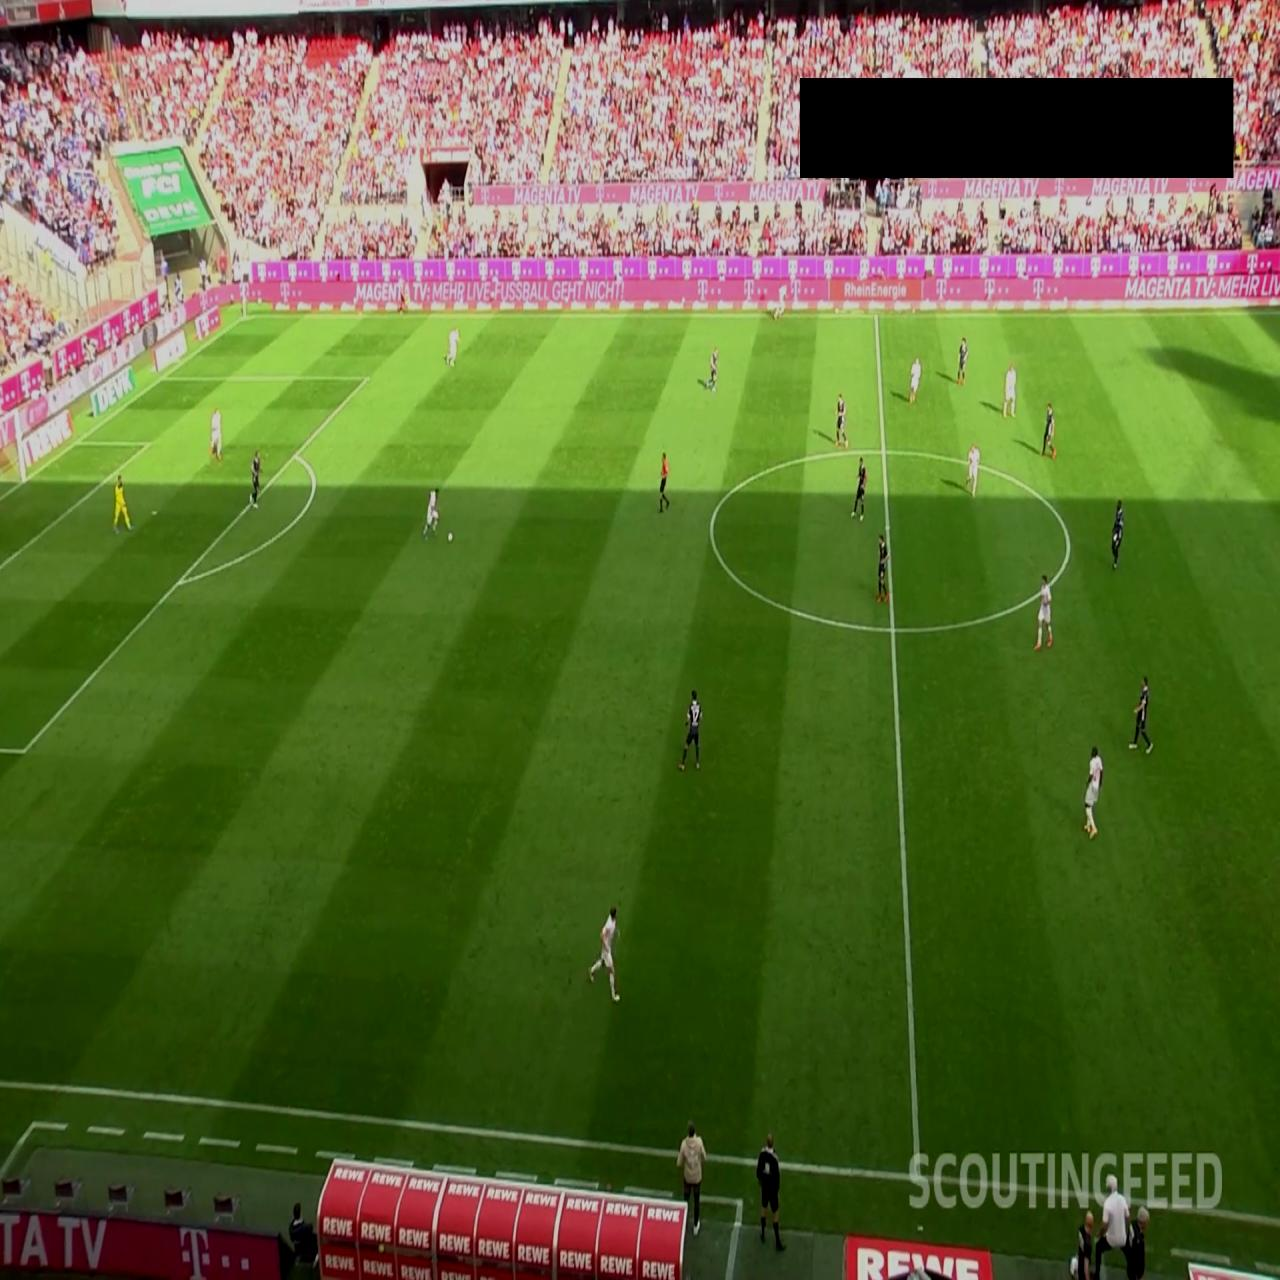ball: (446, 531, 454, 546)
goalkeeper: (112, 473, 132, 535)
player: (588, 906, 621, 1002), (677, 688, 703, 772), (1130, 674, 1154, 754), (1084, 744, 1104, 839), (1034, 572, 1053, 650), (850, 456, 867, 522), (422, 484, 441, 540), (1110, 499, 1124, 570), (877, 532, 890, 603), (1040, 401, 1056, 458), (966, 442, 981, 498), (1002, 363, 1016, 418), (835, 391, 848, 448), (250, 449, 262, 507), (210, 406, 222, 464), (445, 326, 460, 367), (909, 356, 921, 404), (774, 281, 788, 322), (957, 337, 968, 384), (708, 347, 719, 391)
referee: (658, 450, 670, 512), (397, 274, 408, 314)
